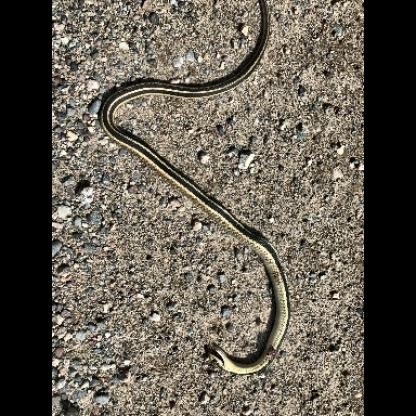Snake: (202, 316, 321, 388)
